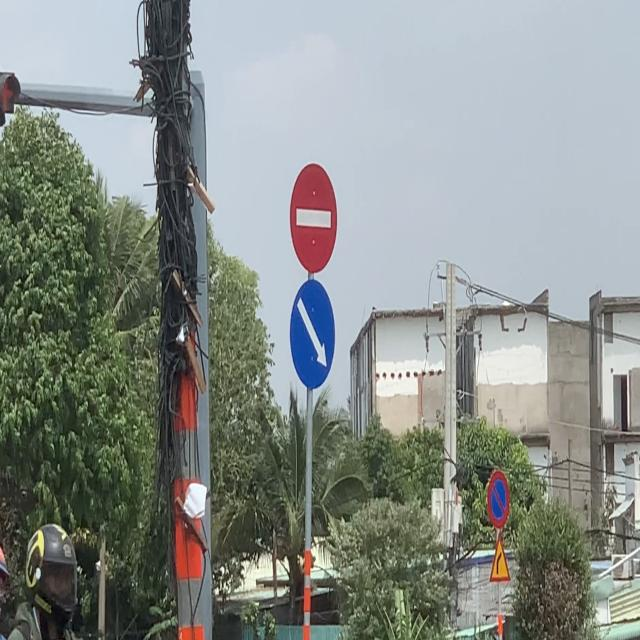Cam do: (487, 470, 510, 529)
Cam nguoc chieu: (289, 162, 338, 274)
Hieu lenh: (290, 279, 335, 389)
Nguy hiem: (489, 532, 511, 583)
